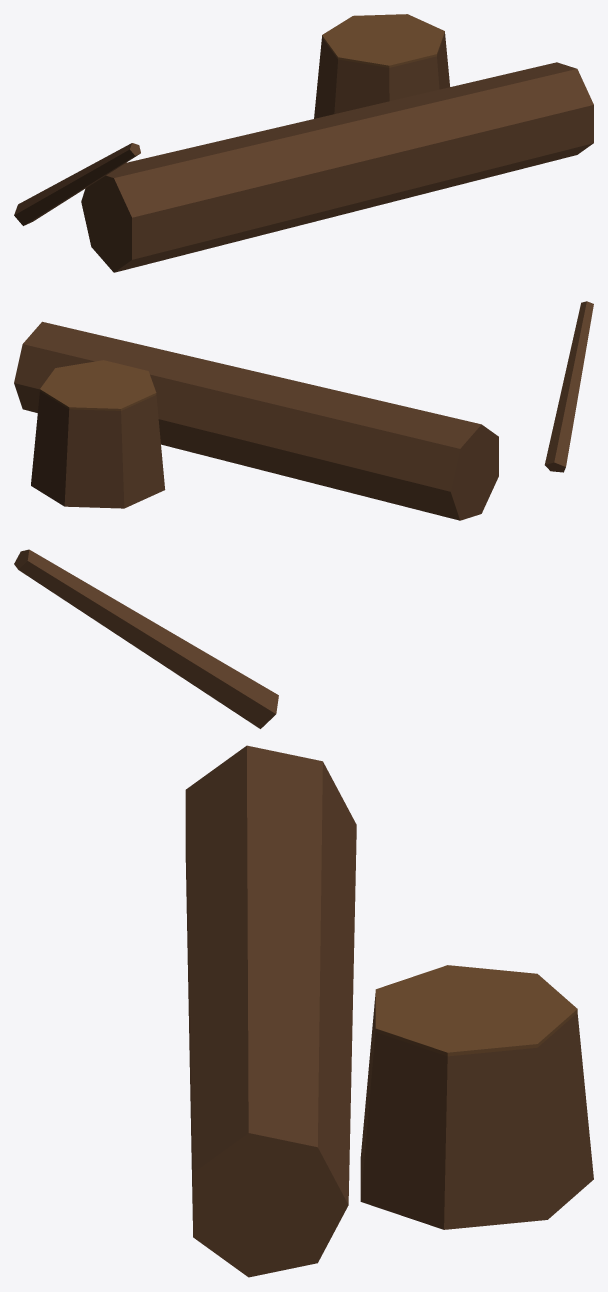
File: prop_log_pile.glb
The picture shows the model from 3 angles, top to bottom: view 1: azimuth 30°, elevation 25°; view 2: azimuth 150°, elevation 25°; view 3: azimuth 270°, elevation 25°; orthographic projection. The views are drawn at different scales.
Visible parts, largest first — view 1: prop_log_pile; view 2: prop_log_pile; view 3: prop_log_pile.
Part boxes in pixels (<box>): prop_log_pile: <box>14,14,593,272</box>; prop_log_pile: <box>14,301,593,520</box>; prop_log_pile: <box>14,549,593,1277</box>.
Size of the model in its own units: 2.65 by 0.8553 by 1.42.
